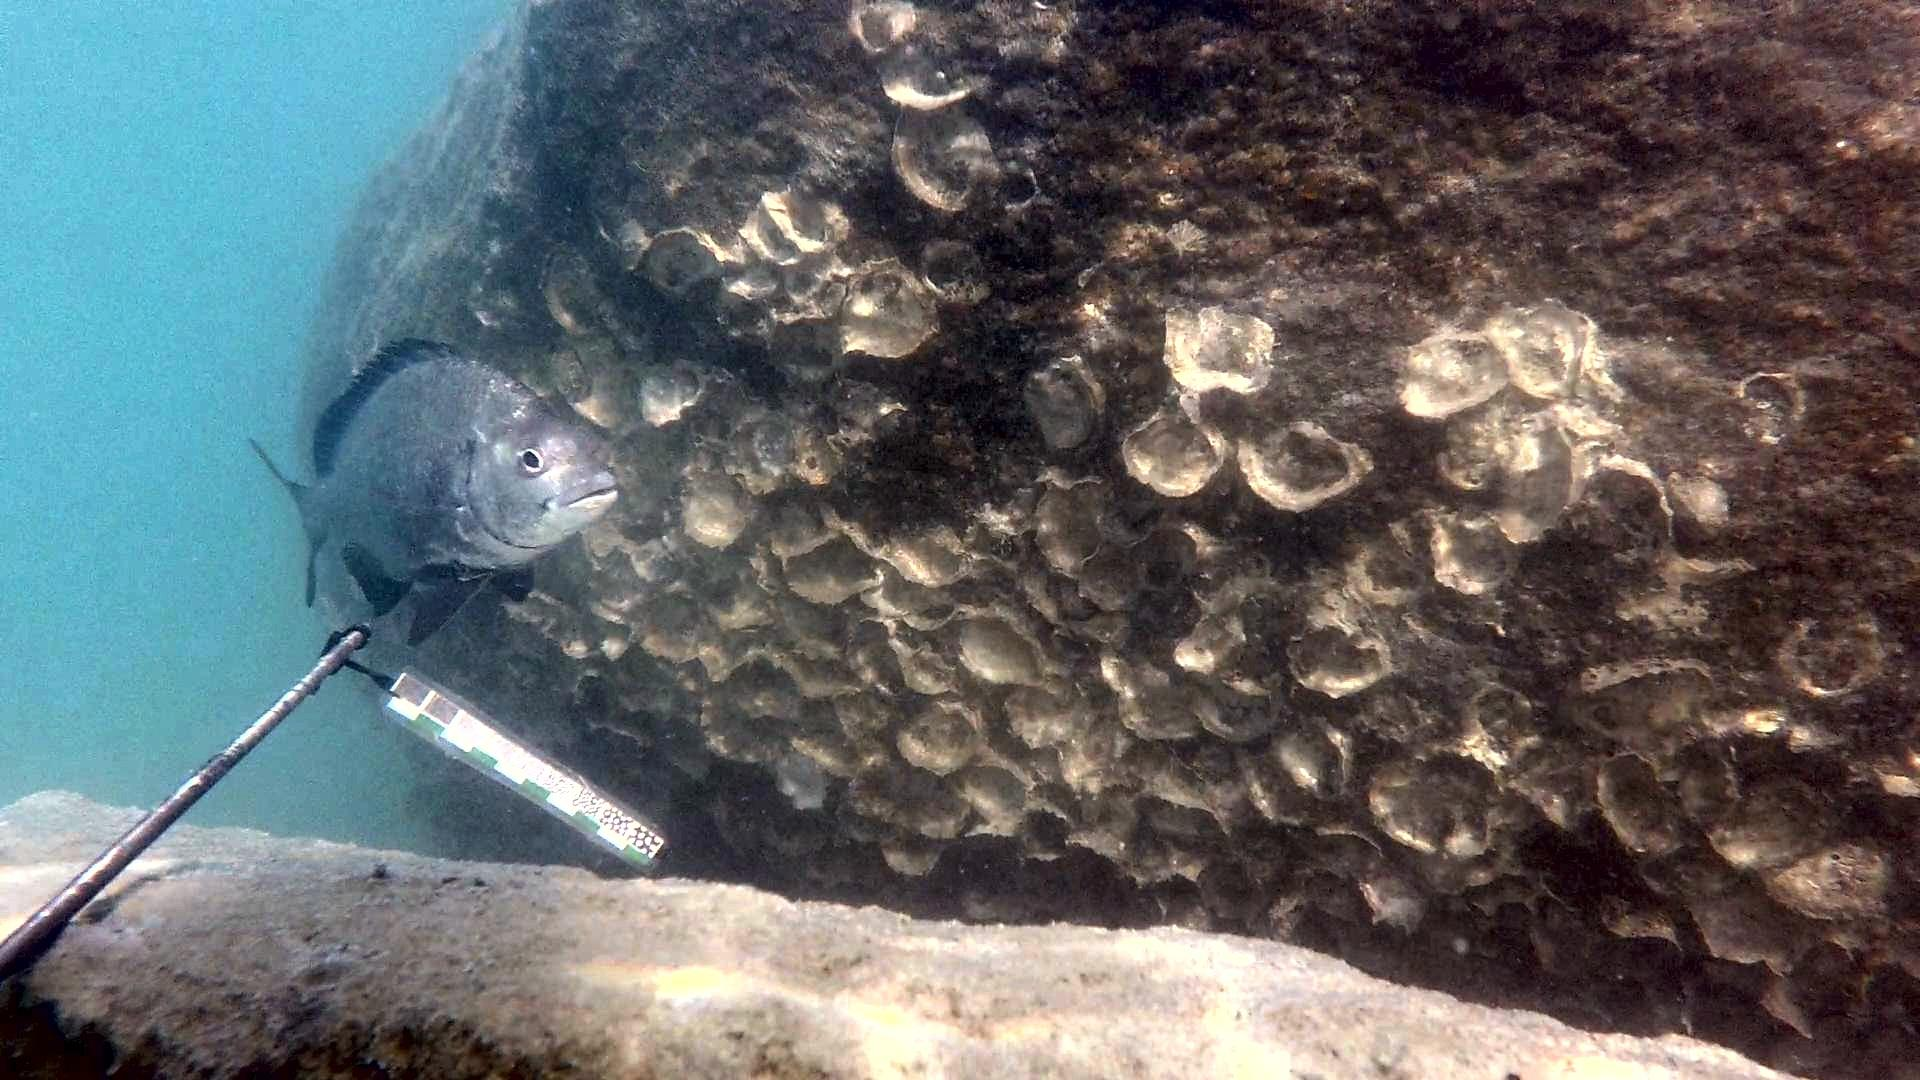acanthopagrus palmaris: (233, 330, 629, 650)
